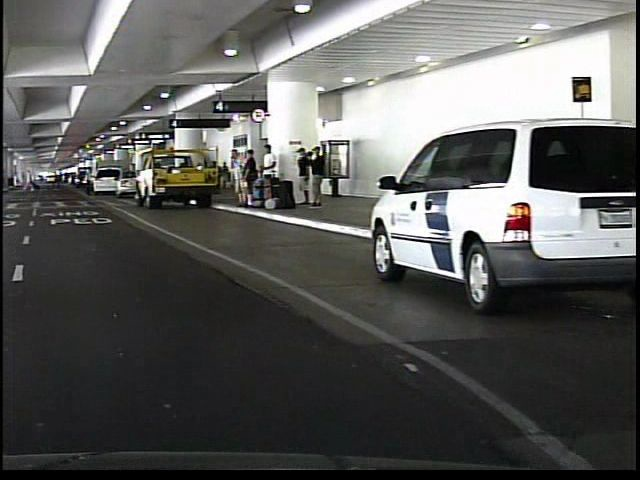person: (224, 143, 243, 205), (306, 143, 322, 208), (16, 161, 36, 195), (79, 165, 91, 197)
